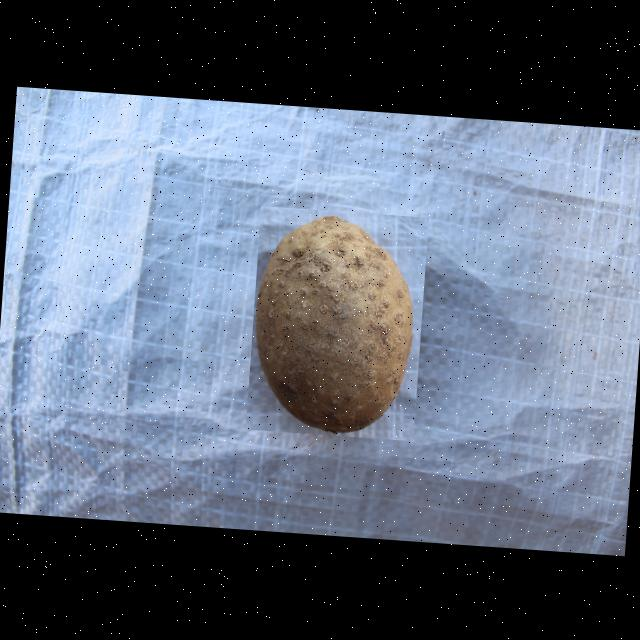Diseased-fungal potato: (245, 205, 428, 440)
